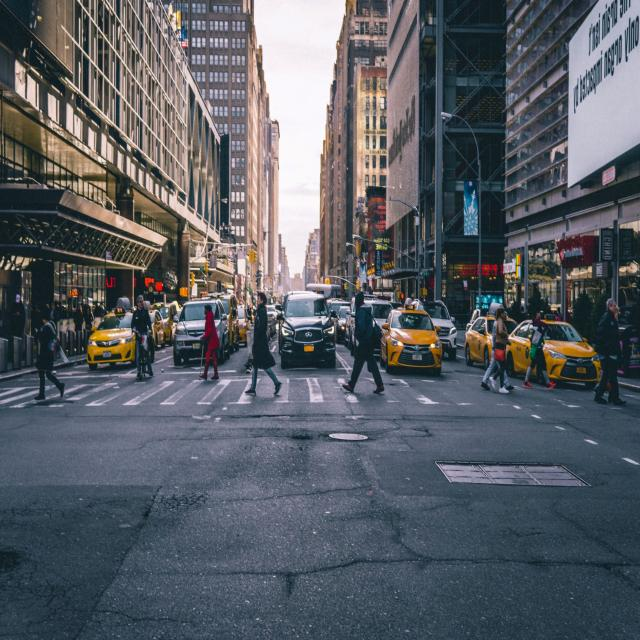adult: (343, 291, 382, 399), (243, 291, 281, 399), (594, 298, 624, 404), (34, 308, 66, 402), (524, 306, 556, 389), (198, 298, 224, 382), (132, 292, 153, 382), (490, 309, 509, 395)
